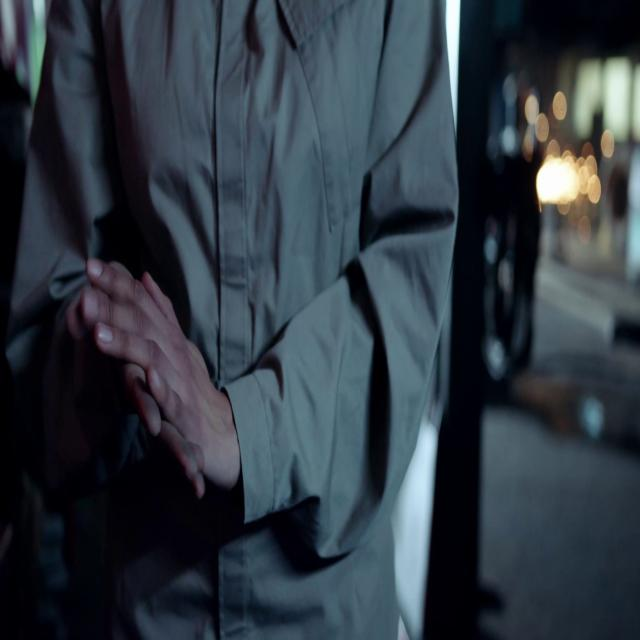not-gloved: (67, 253, 241, 500)
